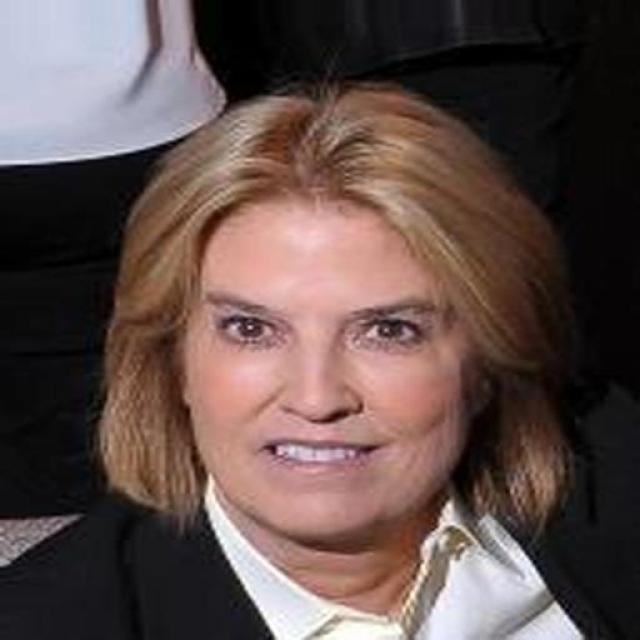bareface: (127, 111, 542, 522)
